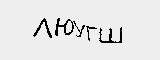Г: (84, 23, 96, 41)
Л: (29, 15, 52, 39)
У: (72, 17, 84, 39)
Ш: (96, 25, 126, 45)
Ю: (53, 15, 74, 37)
